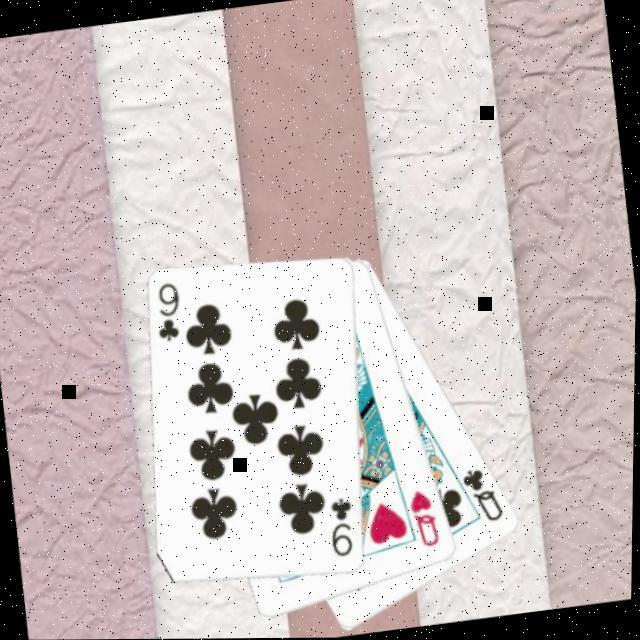9C: (150, 280, 190, 346), (326, 495, 364, 562)
QC: (460, 463, 510, 529)
QH: (407, 486, 447, 553)
